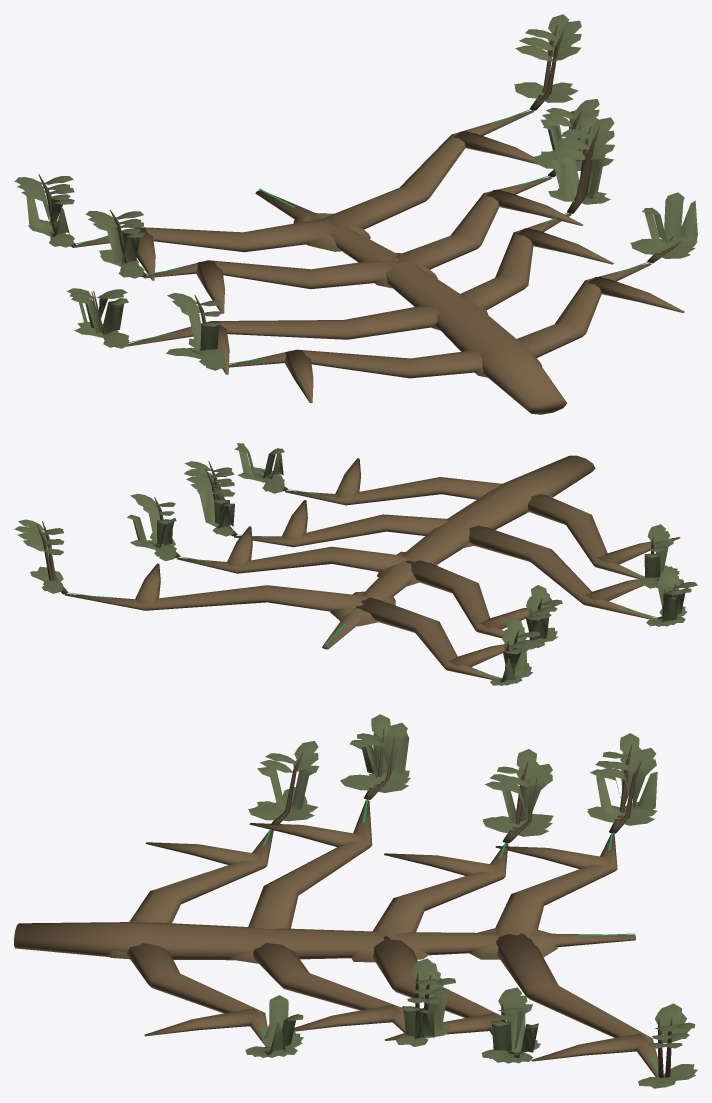
The model's file is green-steppe-colony.glb.
The picture shows the model from 3 angles, top to bottom: view 1: azimuth 30°, elevation 25°; view 2: azimuth 150°, elevation 25°; view 3: azimuth 270°, elevation 25°; orthographic projection. The views are drawn at different scales.
Parts seen in each view (by area): view 1: LAND05 green-steppe-colony; view 2: LAND05 green-steppe-colony; view 3: LAND05 green-steppe-colony.
Boxes of the visible parts, bbox=[...] form: LAND05 green-steppe-colony: bbox=[14, 14, 697, 414]; LAND05 green-steppe-colony: bbox=[14, 443, 697, 685]; LAND05 green-steppe-colony: bbox=[14, 714, 697, 1088].
Size of the model in its own units: 4.87 by 0.6594 by 4.2.
